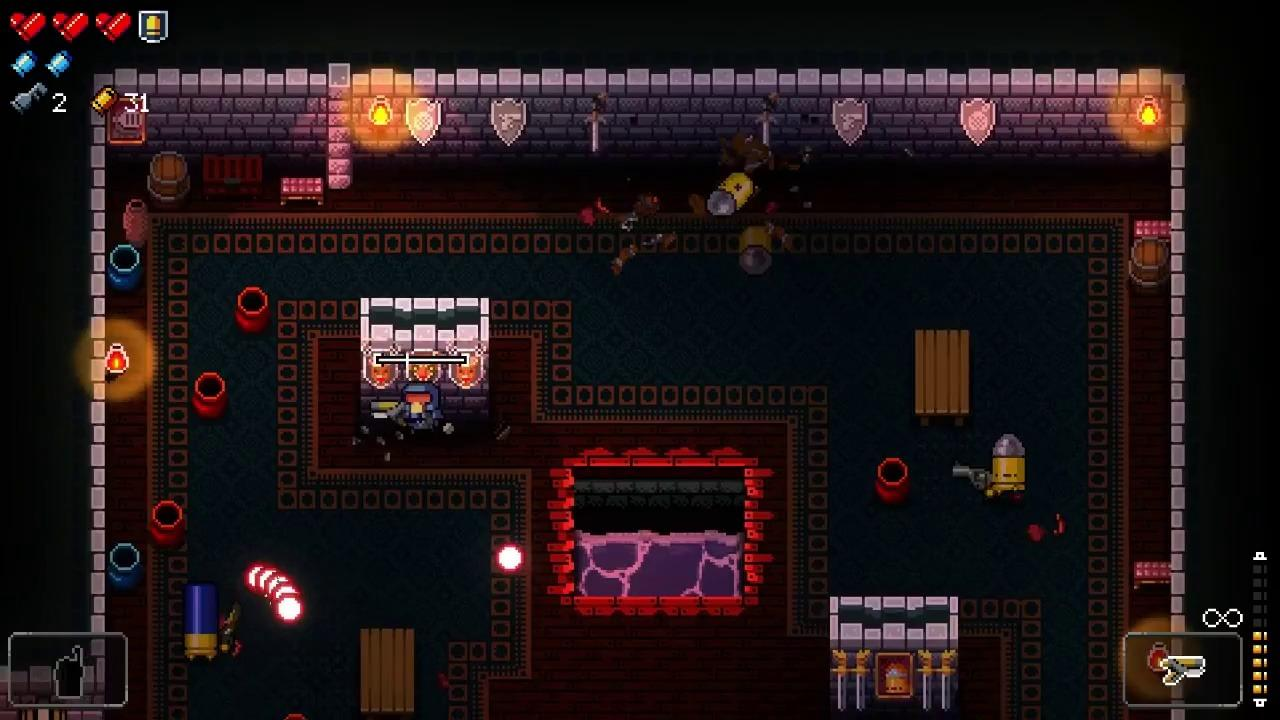blue_shotgun_kin: (181, 580, 219, 661)
bullet: (255, 566, 286, 596), (496, 543, 525, 574), (244, 562, 273, 593), (275, 594, 305, 623), (265, 573, 294, 603), (273, 583, 300, 612)
bullet_kin: (992, 434, 1027, 492)
dead_bullet_kin: (704, 170, 757, 218), (740, 226, 772, 273)
player: (400, 383, 443, 434)
table: (915, 331, 970, 428), (360, 628, 415, 718)
water_pit: (548, 446, 776, 618)
